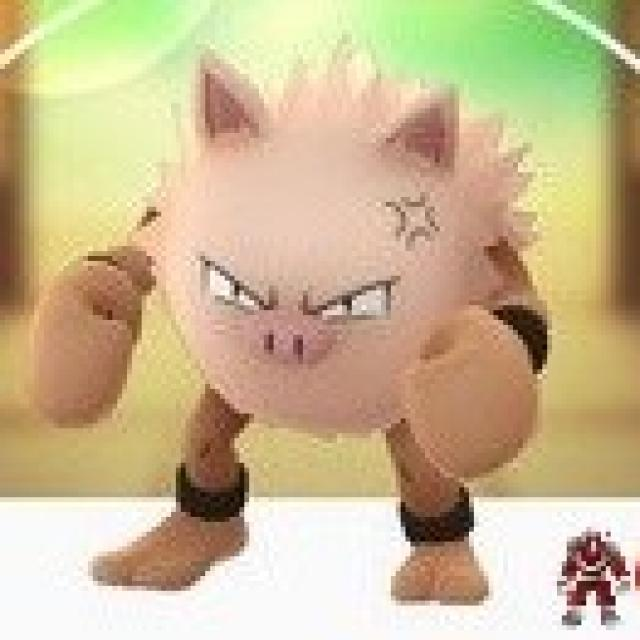Primeape: (89, 52, 513, 593)
